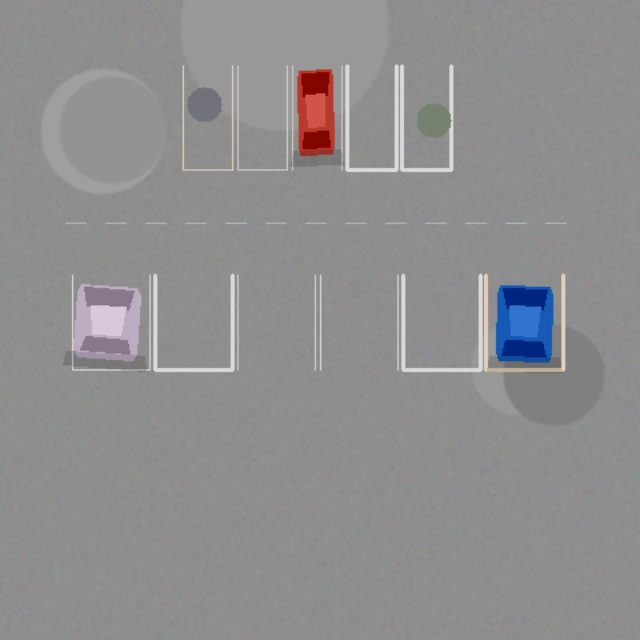space-empty: (237, 275, 315, 369), (155, 275, 232, 369), (320, 275, 397, 369), (403, 275, 480, 369), (237, 65, 287, 169), (401, 65, 451, 169), (183, 65, 232, 169), (347, 65, 396, 169)
space-occupied: (485, 275, 563, 369), (72, 275, 149, 369), (292, 65, 341, 169)
